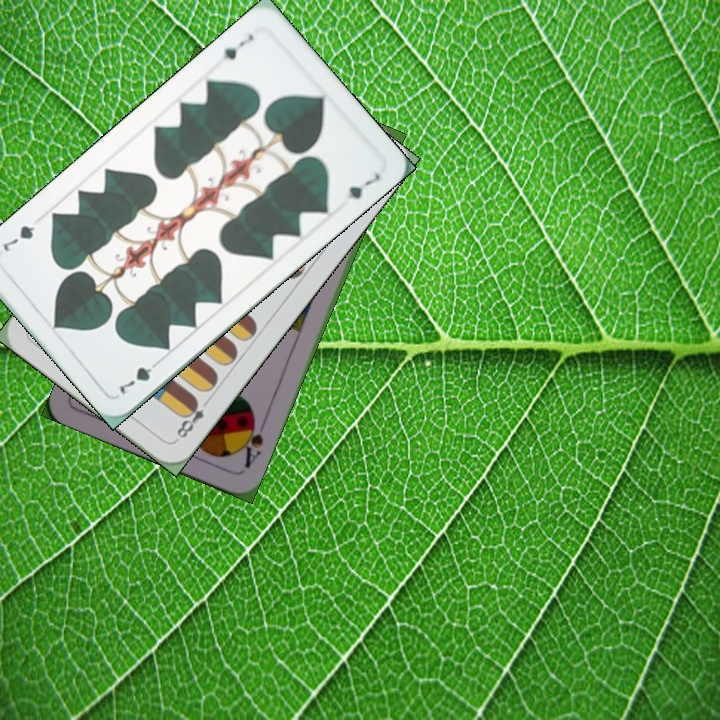E8: (171, 394, 213, 444)
G7: (115, 355, 164, 398), (218, 29, 256, 63)
SA: (235, 412, 269, 471)
